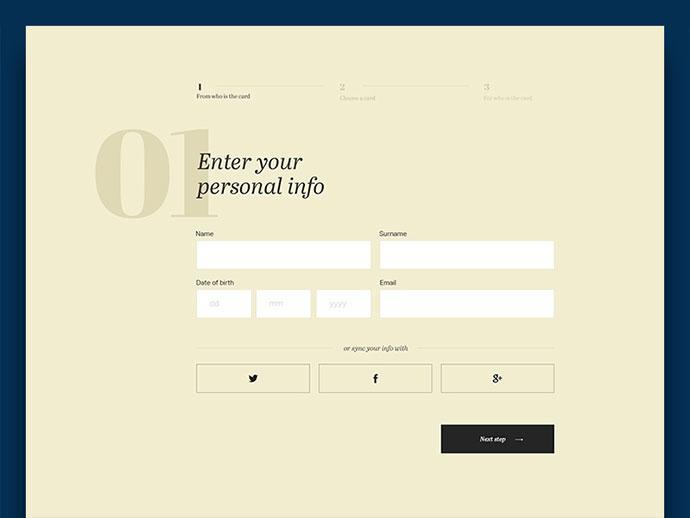button: (197, 364, 311, 394), (442, 425, 556, 454), (321, 365, 433, 394), (442, 365, 554, 394)
input: (198, 240, 372, 271), (381, 289, 555, 319), (382, 242, 554, 271), (199, 290, 251, 319), (317, 292, 372, 319), (257, 292, 314, 318)
label: (193, 147, 327, 205), (197, 278, 237, 289), (379, 229, 409, 239), (193, 230, 216, 241), (381, 280, 406, 289)
